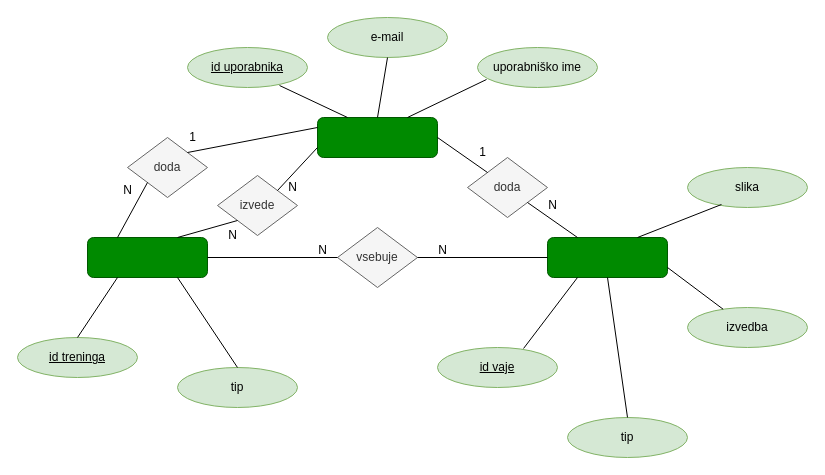
Image size: 825x475. Some labels were removed from this diagram. The shapes that lost their labels are listed below. From the top down, each one's centre as x and y in pixels, then its label:
At point 377,137: "UPORABNIK".
At point 147,257: "TRENINGI".
At point 607,257: "VAJE".
